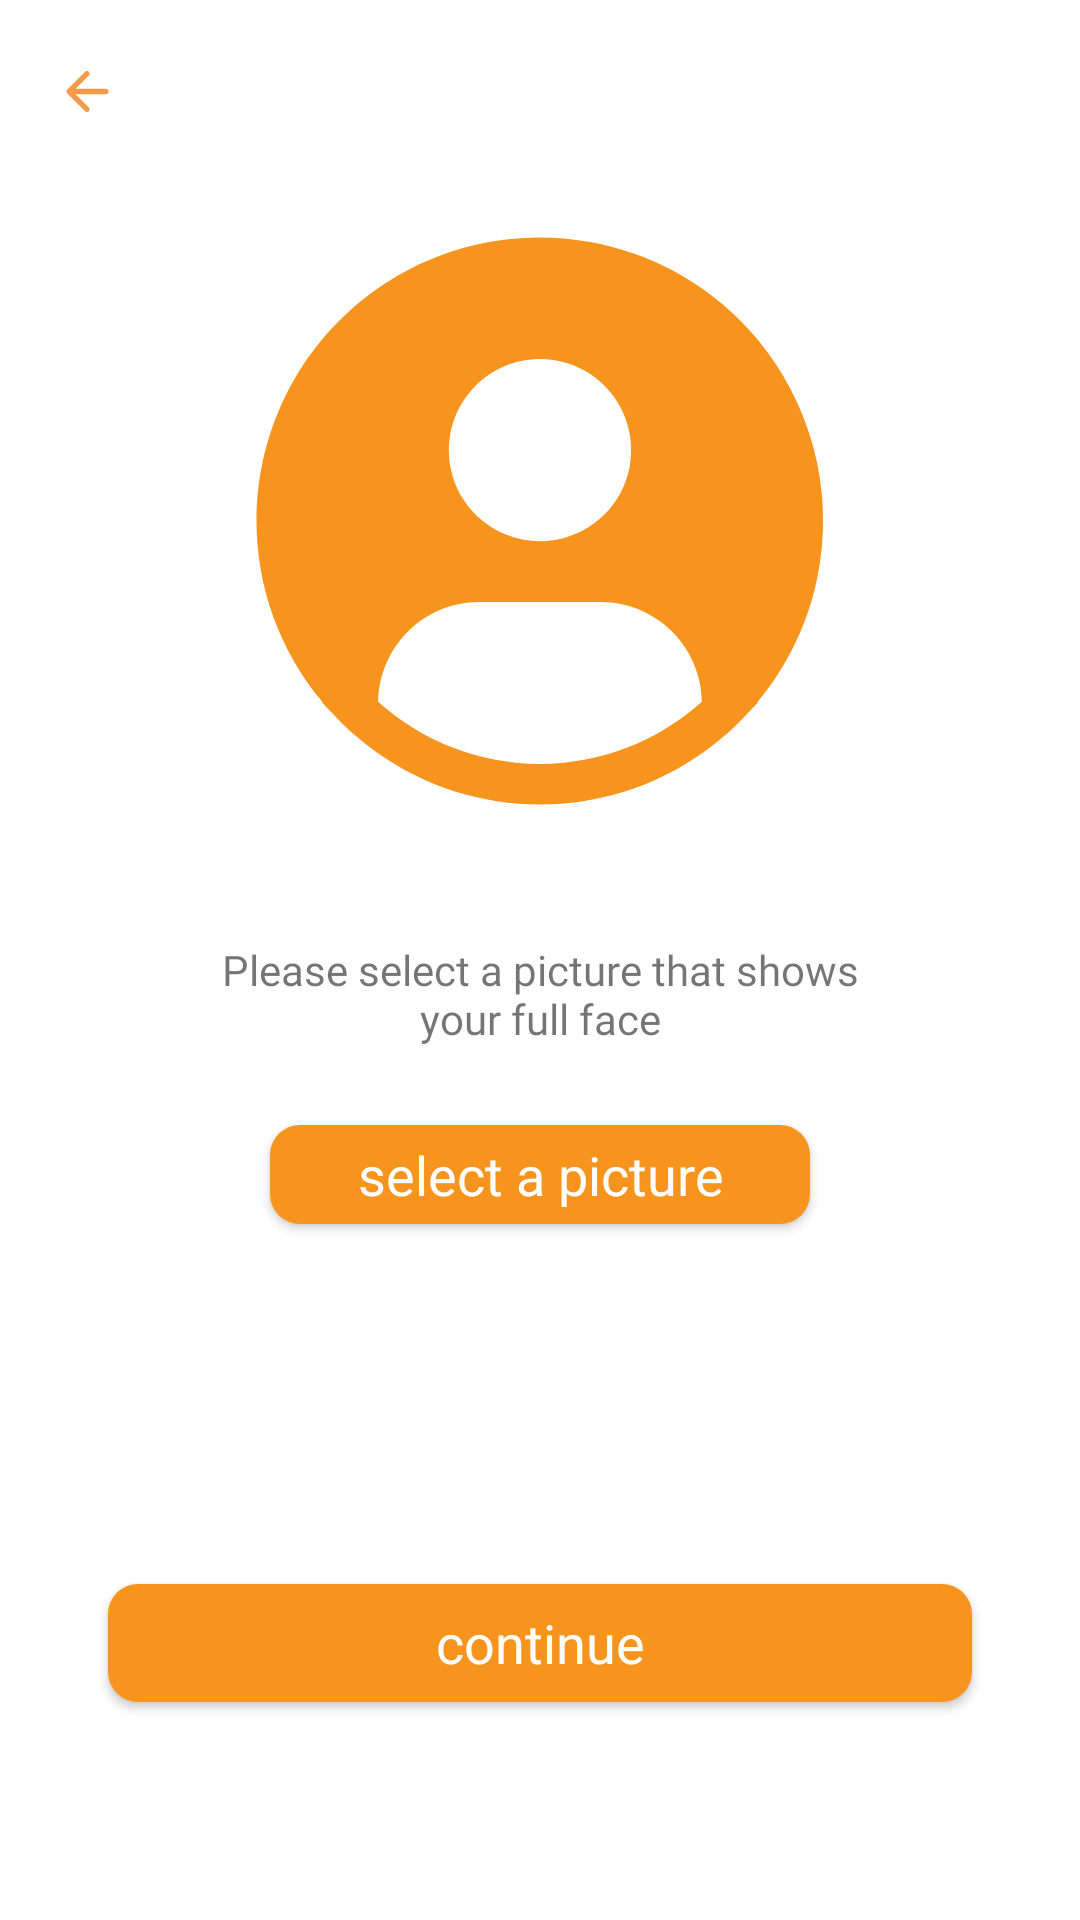

Point at icon controls on the screen. Image size 1080 x 1920, points as (x=x, y=y).
back: (x=87, y=91)
